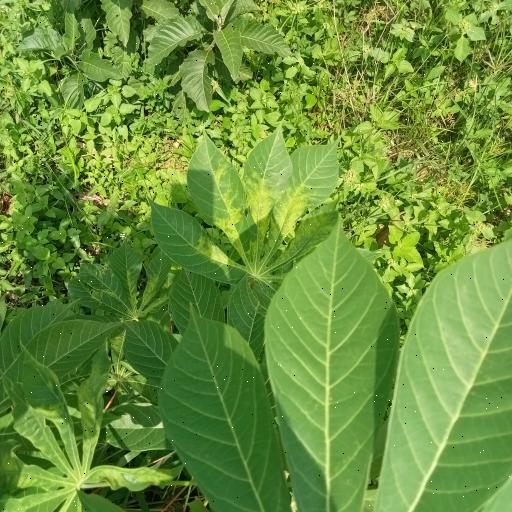Cassava_Healthy: (163, 231, 512, 512), (146, 126, 342, 300)
